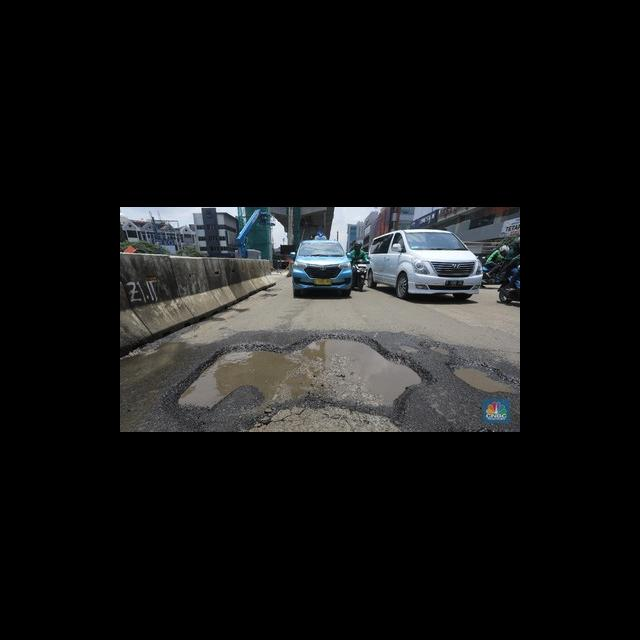lubang_kecil: (175, 329, 434, 421), (441, 360, 520, 399), (416, 339, 466, 360)
